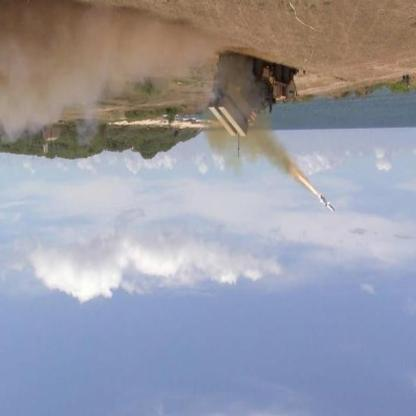MIL_TBM: (316, 192, 337, 214)
